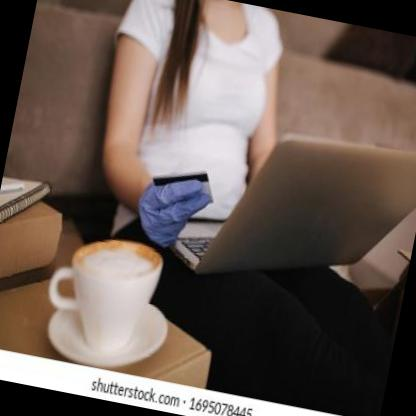Gloves: (131, 171, 213, 253)
